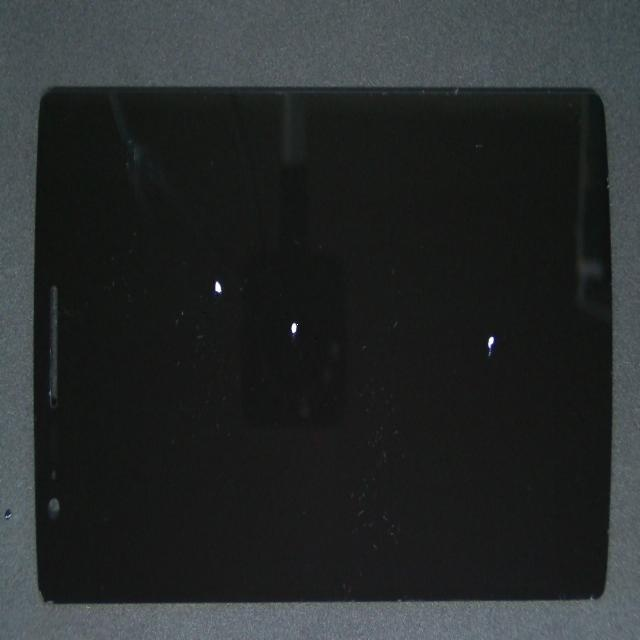stain: (272, 149, 640, 475), (140, 184, 422, 553), (72, 101, 302, 451)
